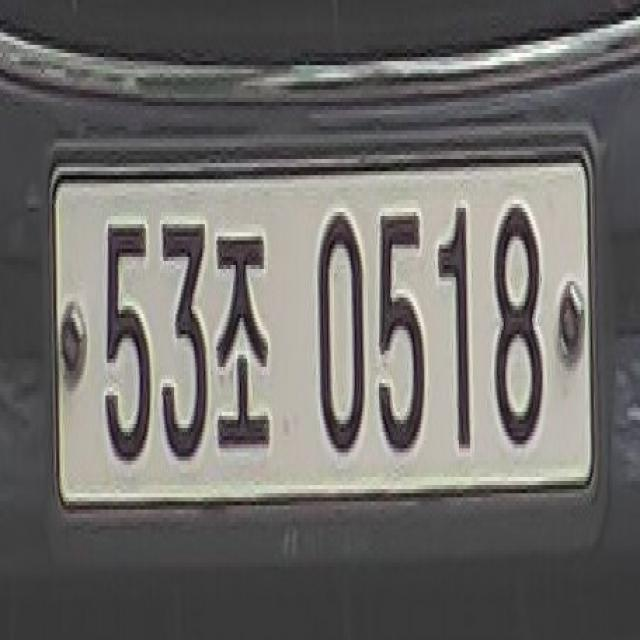0: (308, 188, 370, 489)
1: (430, 188, 484, 493)
3: (160, 180, 213, 493)
5: (372, 171, 429, 477), (97, 216, 154, 469)
8: (491, 192, 553, 477)
jo: (212, 216, 281, 477)
license_plate: (42, 114, 599, 538)
